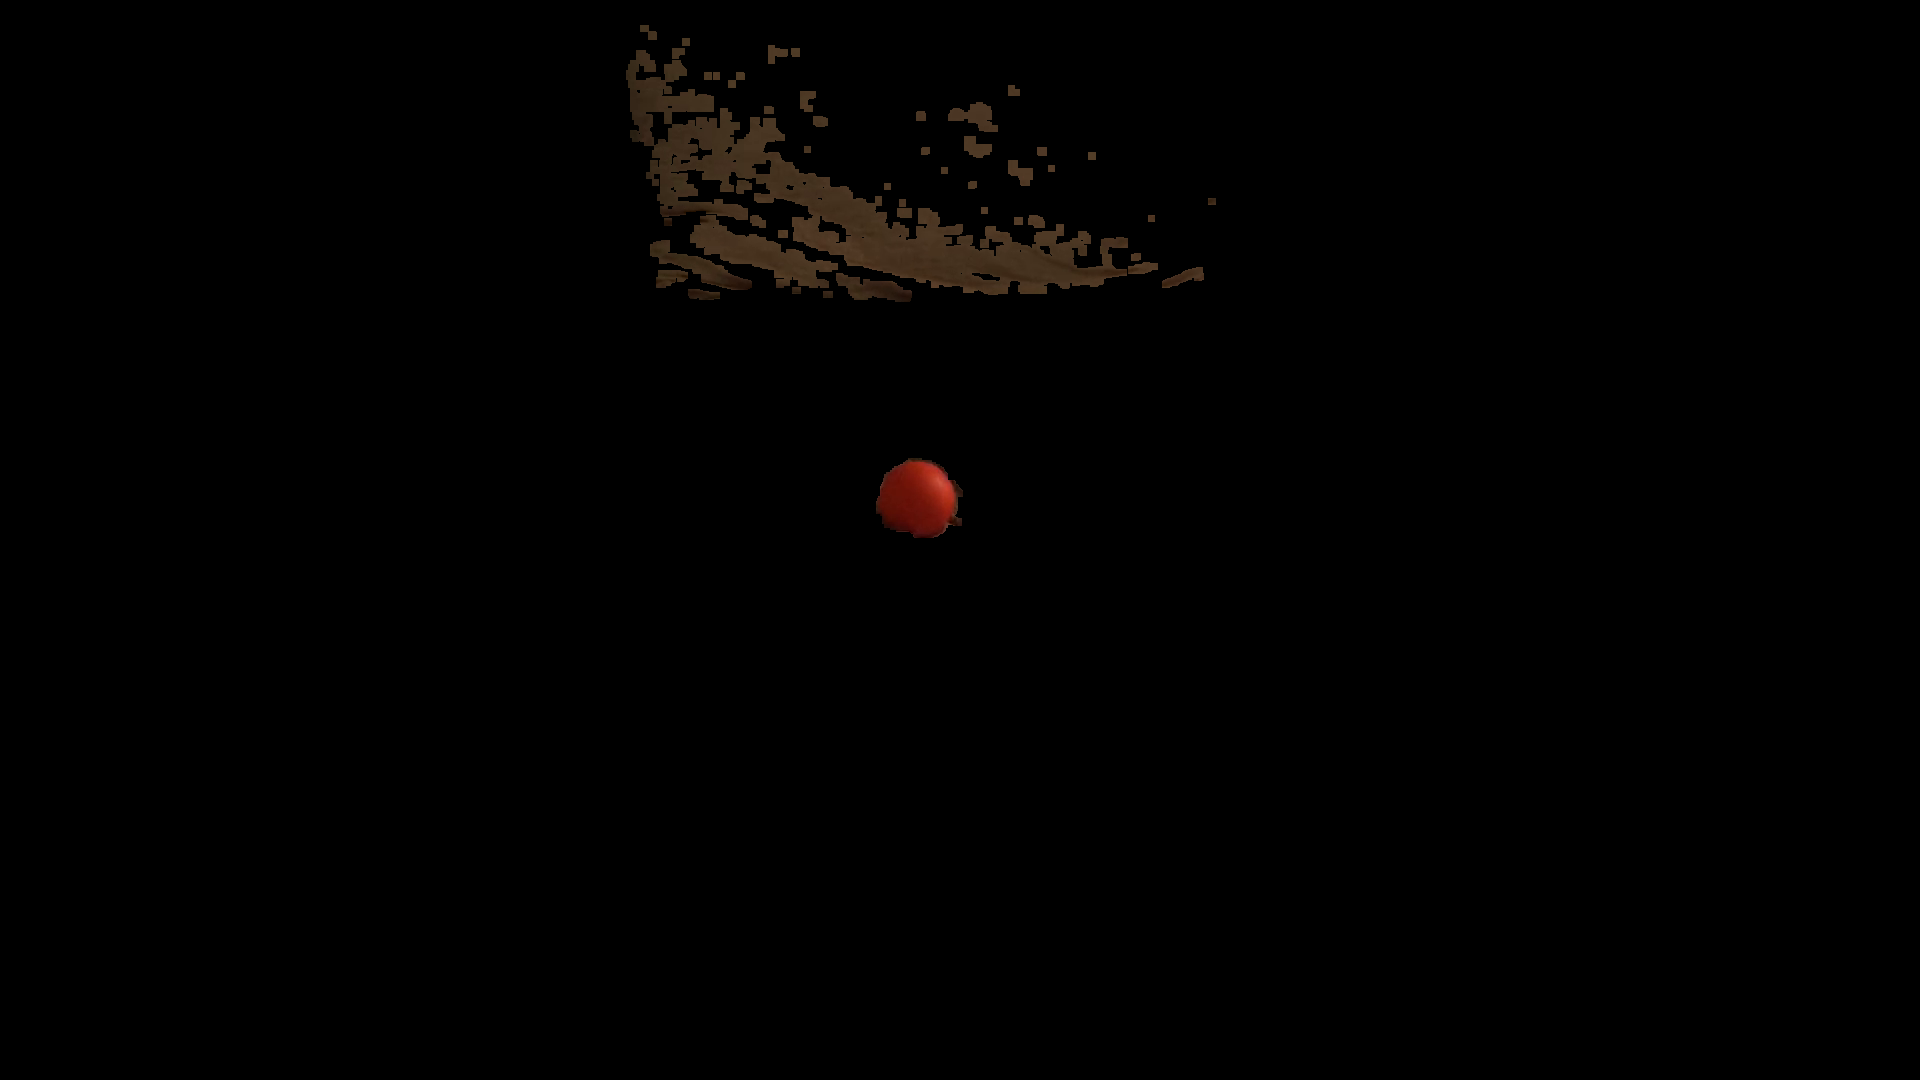Ball: (877, 458, 956, 541)
